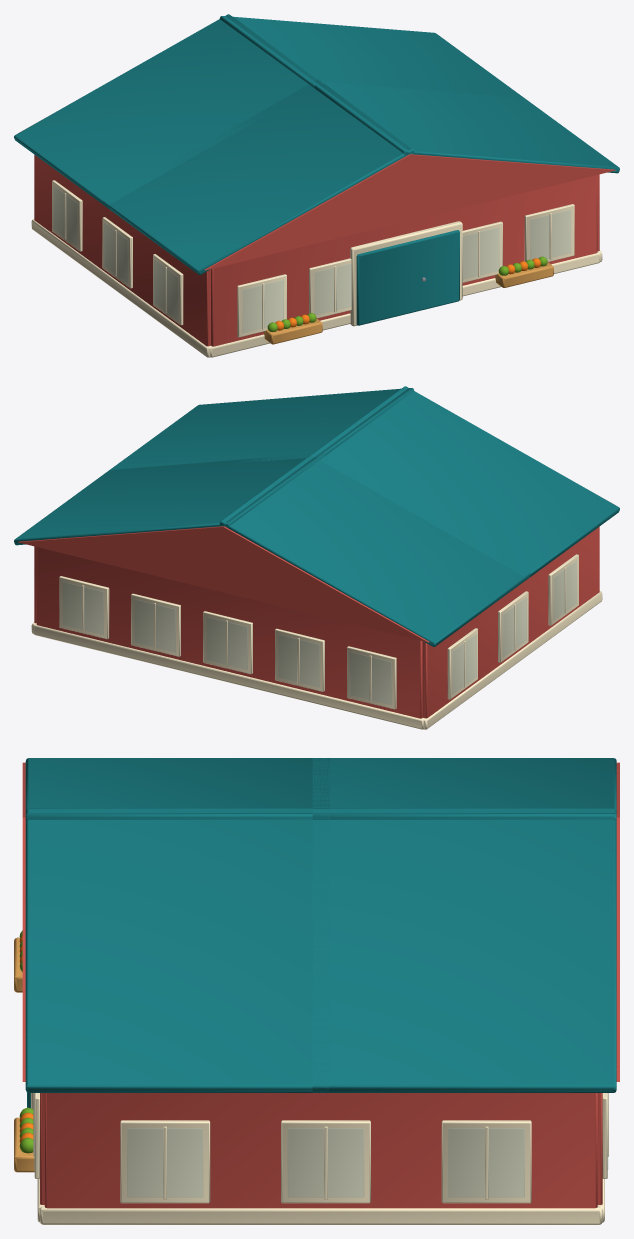
The model's file is project_4.glb.
3 renders of one model, top to bottom at view 1: azimuth 30°, elevation 25°; view 2: azimuth 150°, elevation 25°; view 3: azimuth 270°, elevation 25°, orthographic. The views are drawn at different scales.
Visible parts, largest first — view 1: roof half.010, roof half.008, painted gable.005, wall.009, foundation trim.009, door.003, wall.010, foundation trim.010, blue window.037, blue window.042, door frame.002, planter.004 (+1 smaller); view 2: roof half.008, roof half.010, wall.008, foundation trim.008, painted gable.004, blue window.032, wall.010, foundation trim.010, blue window.042; view 3: roof half.008, roof half.010, wall.011, foundation trim.011, blue window.045, painted gable.004, painted gable.005, foundation trim.008, foundation trim.009, wall.008, planter.005.
Boxes of the visible parts, x1,y1,x2,y2 form: roof half.010: (103, 79, 619, 274); roof half.008: (14, 14, 523, 208); painted gable.005: (204, 154, 615, 270); wall.009: (211, 175, 597, 346); foundation trim.009: (210, 204, 600, 357); door.003: (356, 230, 459, 325); wall.010: (34, 154, 210, 346); foundation trim.010: (31, 180, 210, 357); blue window.037: (243, 210, 570, 332); blue window.042: (54, 187, 177, 319); door frame.002: (350, 221, 462, 326); planter.004: (264, 319, 322, 344); roof half.008: (14, 451, 530, 646); roof half.010: (110, 386, 619, 580); wall.008: (36, 547, 422, 718); foundation trim.008: (33, 576, 423, 729); painted gable.004: (18, 526, 429, 642); blue window.032: (63, 582, 390, 704); wall.010: (423, 526, 599, 718); foundation trim.010: (423, 554, 602, 729); blue window.042: (453, 561, 576, 693); roof half.008: (312, 758, 616, 1092); roof half.010: (25, 758, 329, 1092); wall.011: (44, 1093, 597, 1208); foundation trim.011: (40, 1120, 602, 1224); blue window.045: (127, 1129, 524, 1196); painted gable.004: (616, 762, 619, 1081); painted gable.005: (22, 762, 25, 1081); foundation trim.008: (597, 1093, 608, 1222); foundation trim.009: (33, 1093, 44, 1222); wall.008: (597, 1093, 602, 1204); planter.005: (14, 1117, 34, 1172).
Size of the model in its own units: 16.44 by 6.14 by 12.82.
